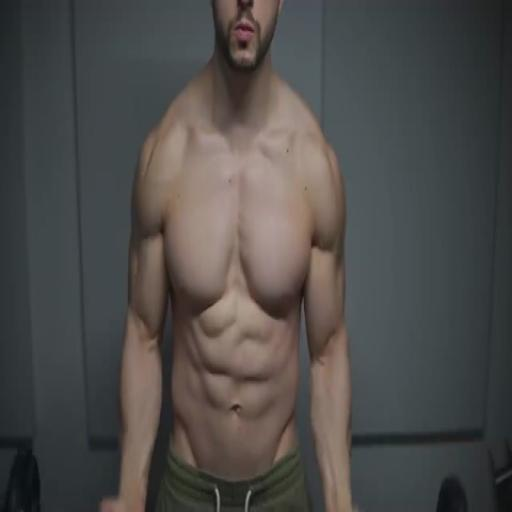exercise: (96, 0, 361, 511)
